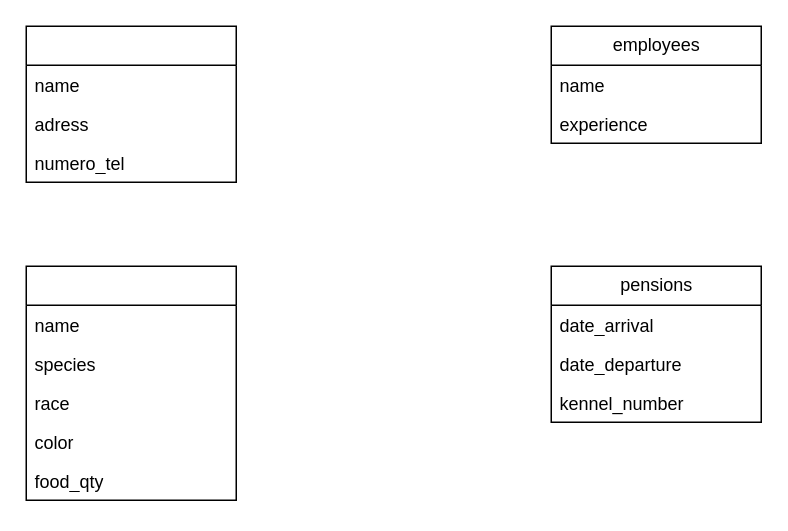
Image size: 788x531. Some labels were removed from this diagram. The shapes that lost their labels are listed below. From the top down, each one's box as (x1, y1, x2, y2) in pixels, then its label:
(25, 25, 236, 182): clients
(25, 265, 236, 500): animals
